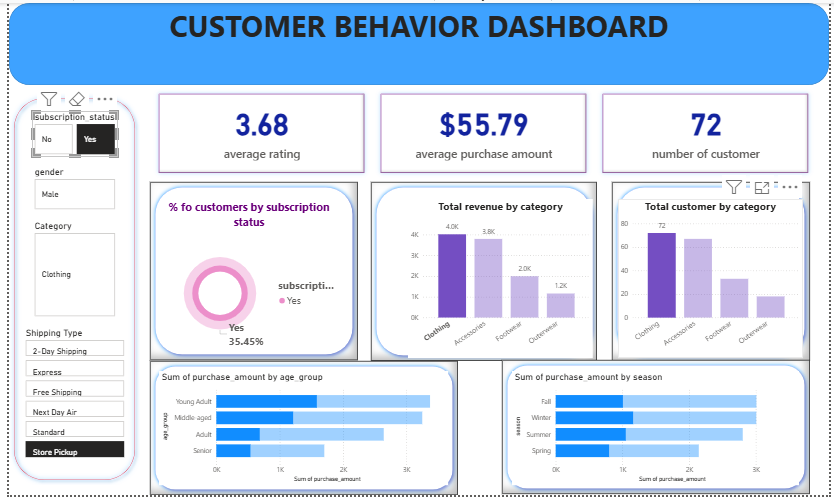

The dashboard page shown, as its layout file describes it:
{"tool":"powerbi","page":{"name":"Page 1","canvas":[1500,900],"ordinal":0},"visuals":[{"type":"cardVisual","fields":{"Data":["customer_behavior customer.average rating","customer_behavior customer.average purchase amount","customer_behavior customer.number of customer"]},"box":[257.9,150,1220.1,177.4],"z":0},{"type":"shape","box":[0,0,1500,150],"z":1000},{"type":"textbox","box":[0,0,1500,150],"z":2000},{"type":"shape","box":[257.9,327.4,380.5,325.6],"z":3000},{"type":"donutChart","title":"% fo customers by subscription status","fields":{"Category":["customer_behavior customer.subscription_status"],"Y":["Sum(customer_behavior customer.customer_id)"]},"box":[274.4,358.5,329.3,290.9],"z":4000},{"type":"shape","box":[662.2,327.4,413.4,327.4],"z":5000},{"type":"shape","box":[1103,327.4,362.2,327.4],"z":6000},{"type":"columnChart","title":"Total revenue by category","fields":{"Y":["Sum(customer_behavior customer.purchase_amount)"],"Category":["customer_behavior customer.category"]},"box":[729.9,358.5,338.4,290.9],"z":7000},{"type":"columnChart","title":"Total customer by category","fields":{"Y":["CountNonNull(customer_behavior customer.customer_id)"],"Category":["customer_behavior customer.category"]},"box":[1114,358.5,338.4,290.9],"z":8000},{"type":"shape","box":[0,164.6,239.6,717.1],"z":9000},{"type":"advancedSlicerVisual","fields":{"Values":["customer_behavior customer.subscription_status"]},"box":[42.1,197.6,157.3,84.1],"z":10000},{"type":"advancedSlicerVisual","fields":{"Values":["customer_behavior customer.gender"]},"box":[42.1,298.2,157.3,84.1],"z":10001},{"type":"advancedSlicerVisual","fields":{"Values":["customer_behavior customer.category"]},"box":[42.1,397,157.3,181.1],"z":10002},{"type":"advancedSlicerVisual","fields":{"Values":["customer_behavior customer.shipping_type"]},"box":[25.6,592.7,190.2,245.1],"z":10003},{"type":"shape","box":[257.9,654.9,563.4,245.1],"z":10004},{"type":"shape","box":[901.8,653,563.4,245.1],"z":10006},{"type":"barChart","fields":{"Y":["Sum(customer_behavior customer.purchase_amount)"],"Category":["customer_behavior customer.age_group"]},"box":[274.4,673.2,528.7,208.5],"z":10008},{"type":"barChart","fields":{"Category":["customer_behavior customer.season"],"Y":["Sum(customer_behavior customer.purchase_amount)"]},"box":[920.1,673.2,525,208.5],"z":10009}]}

Visuals, with their boxes in screenshot pixels (x1, y1, x2, y2), scaled from the page's 1500x900 canvas onto the 834x498 screenshot:
cardVisual - customer_behavior customer.average rating x customer_behavior customer.average purchase amount: 143 83 822 181
shape: 0 0 833 83
textbox: 0 0 833 83
shape: 143 181 355 361
"% fo customers by subscription status" donutChart: 153 198 336 359
shape: 368 181 598 362
shape: 613 181 815 362
"Total revenue by category" columnChart: 406 198 594 359
"Total customer by category" columnChart: 619 198 808 359
shape: 0 91 133 488
advancedSlicerVisual - customer_behavior customer.subscription_status: 23 109 111 156
advancedSlicerVisual - customer_behavior customer.gender: 23 165 111 212
advancedSlicerVisual - customer_behavior customer.category: 23 220 111 320
advancedSlicerVisual - customer_behavior customer.shipping_type: 14 328 120 464
shape: 143 362 457 497
shape: 501 361 815 497
barChart - Sum(customer_behavior customer.purchase_amount) x customer_behavior customer.age_group: 153 373 447 488
barChart - customer_behavior customer.season x Sum(customer_behavior customer.purchase_amount): 512 373 803 488
